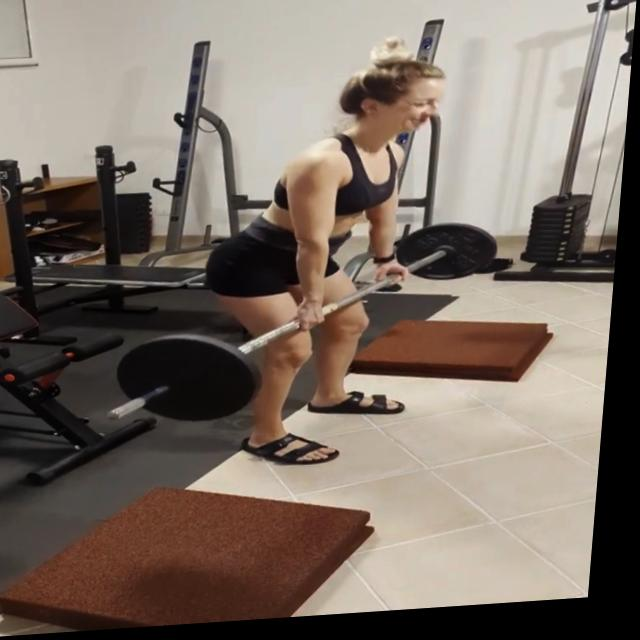barbell: (109, 333, 275, 433)
